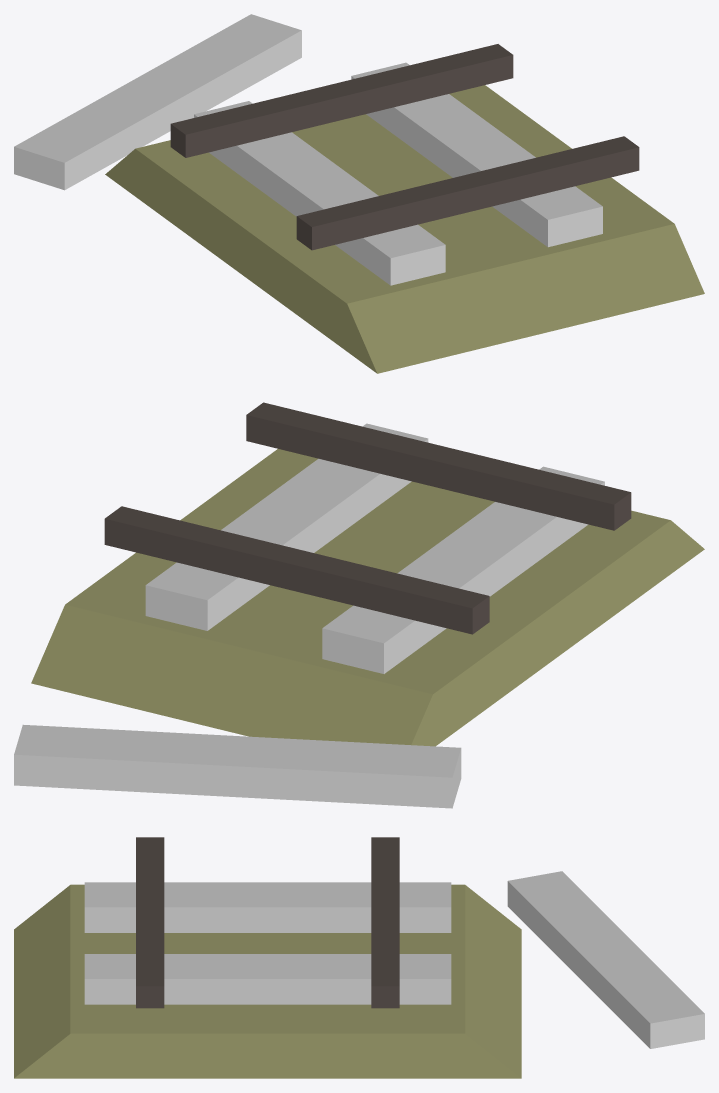
Rendered from SM_Via_Recta2_v4_Danada_LOD1.fbx.
3 views of the same model, one above another, from view 1: azimuth 30°, elevation 25°; view 2: azimuth 150°, elevation 25°; view 3: azimuth 270°, elevation 25° (orthographic). The views are drawn at different scales.
Parts seen in each view (by area): view 1: SM_via_trazado_v9_LOD1; view 2: SM_via_trazado_v9_LOD1; view 3: SM_via_trazado_v9_LOD1.
Boxes of the visible parts, x1=… form: SM_via_trazado_v9_LOD1: x1=14, y1=14, x2=704, y2=373; SM_via_trazado_v9_LOD1: x1=14, y1=402, x2=704, y2=808; SM_via_trazado_v9_LOD1: x1=14, y1=837, x2=704, y2=1078.
Bounding box in the file's own units: 3.03 × 0.72 × 4.9.
